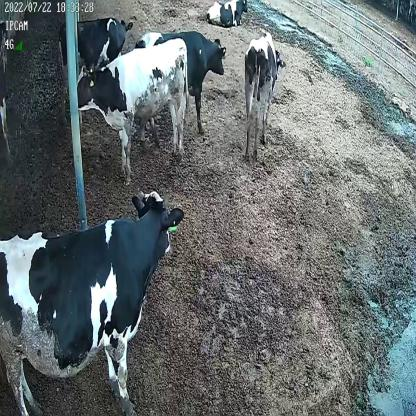cow: (0, 188, 185, 416), (76, 37, 192, 182), (133, 29, 227, 136), (57, 15, 132, 113), (244, 31, 285, 163), (206, 0, 250, 28)
